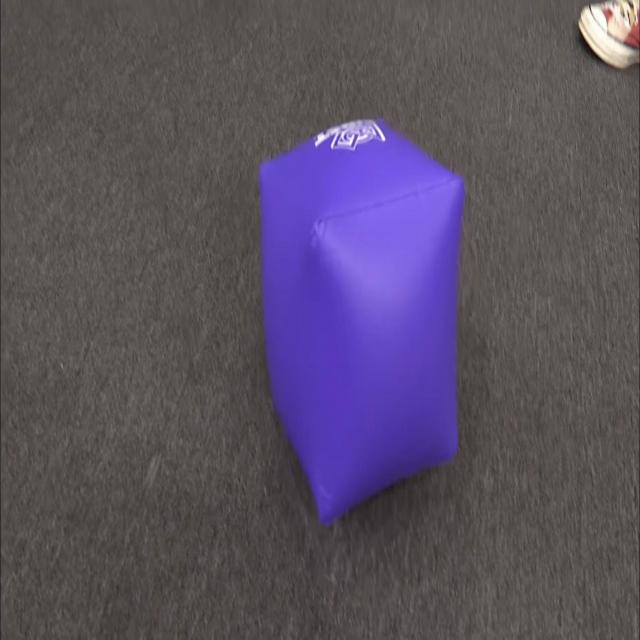frc_cube: (253, 98, 464, 538)
